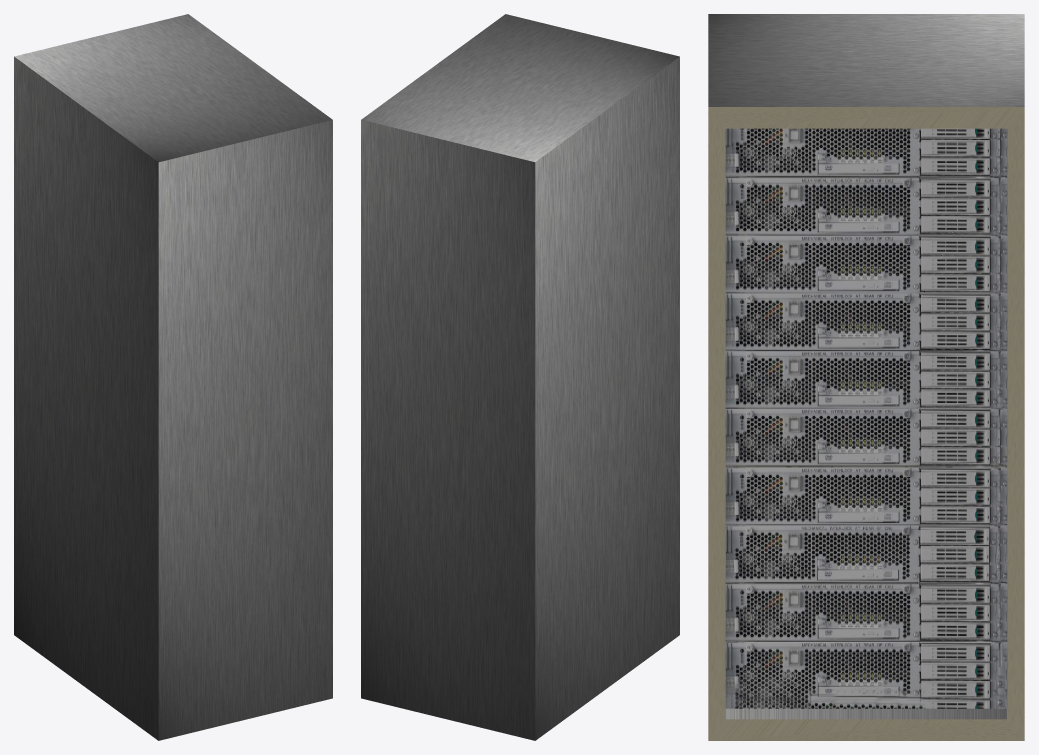
The model's file is serwer.FBX.
The picture shows the model from 3 angles, left to right: view 1: azimuth 30°, elevation 25°; view 2: azimuth 150°, elevation 25°; view 3: azimuth 270°, elevation 25°; orthographic projection. The views are drawn at different scales.
Visible parts, largest first — view 1: serwer; view 2: serwer; view 3: serwer.
Part boxes in pixels (<box>): serwer: <box>14,14,332,740</box>; serwer: <box>361,14,679,740</box>; serwer: <box>708,14,1024,740</box>.
Bounding box in the file's own units: 2 × 6.34 × 2.87.
3 materials, 3 textured.
